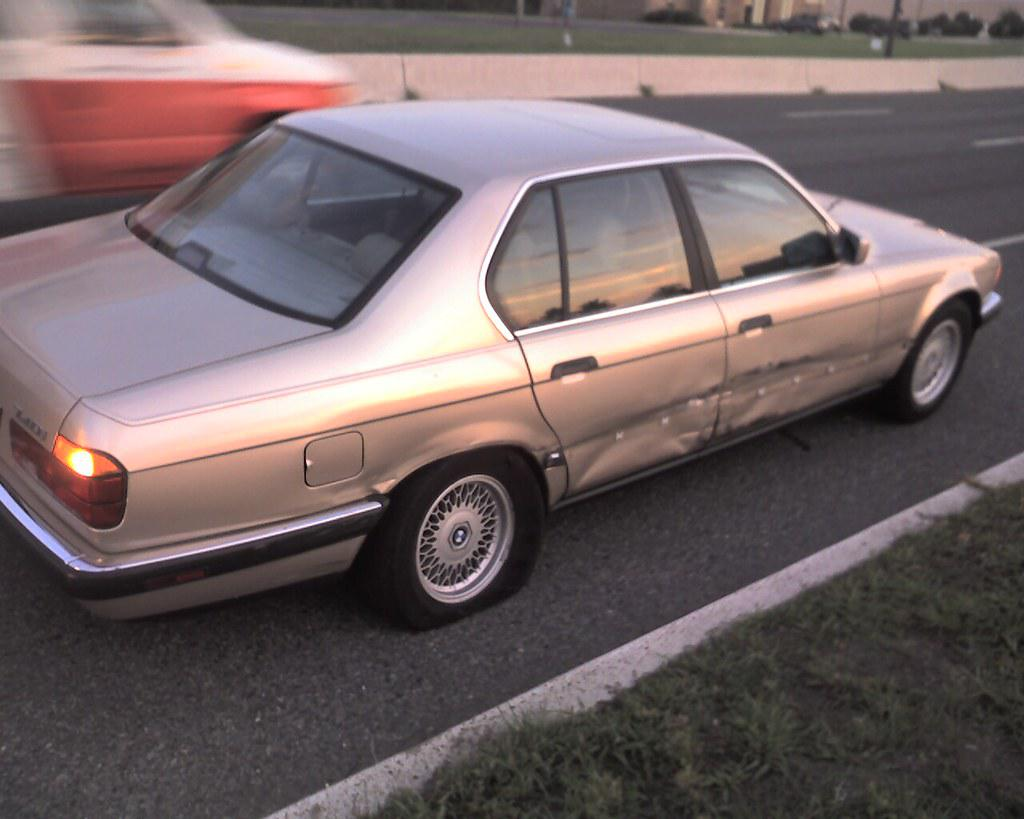doorouter-dent: (517, 296, 718, 472), (731, 292, 862, 432)
